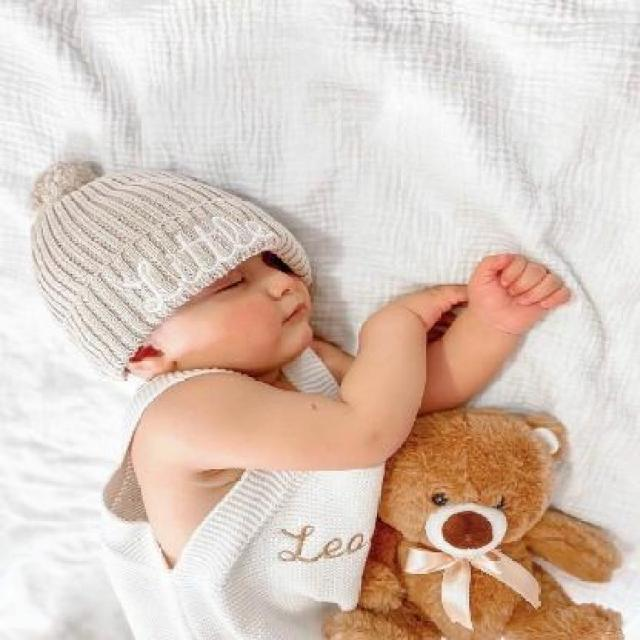child: (28, 159, 627, 639)
